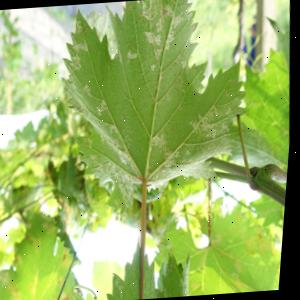Folha: (51, 0, 263, 221), (217, 12, 299, 192), (154, 203, 288, 298), (0, 206, 92, 300), (106, 232, 199, 300)
Fungo: (186, 95, 244, 150), (136, 0, 177, 54), (155, 151, 193, 185), (92, 148, 129, 180), (247, 229, 279, 257), (68, 38, 92, 75), (117, 171, 142, 202), (147, 134, 173, 158), (0, 270, 17, 294), (230, 260, 248, 282), (10, 282, 31, 300), (144, 30, 163, 49), (33, 270, 45, 300), (31, 238, 49, 258), (214, 227, 230, 247), (116, 275, 129, 298), (73, 18, 87, 36), (97, 99, 109, 118), (47, 220, 59, 238), (65, 248, 75, 266), (239, 280, 253, 292), (65, 292, 75, 300), (150, 65, 157, 74)
